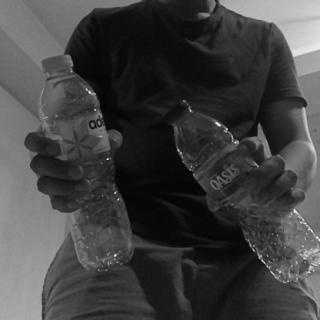plastic_bottles: (164, 97, 320, 283), (37, 53, 135, 275)
